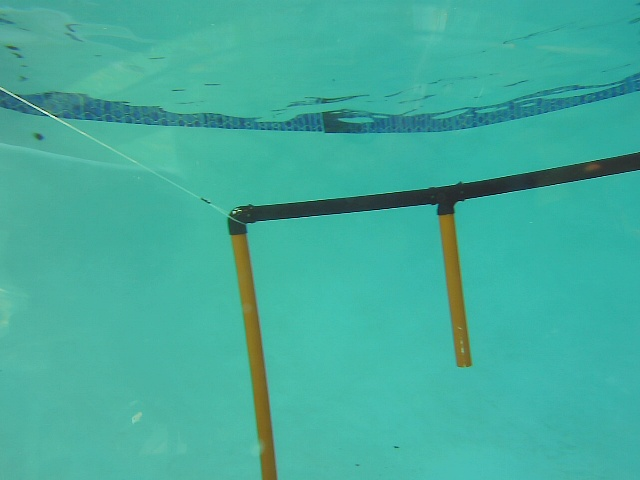Gate: (222, 223, 284, 480), (430, 206, 477, 369)
